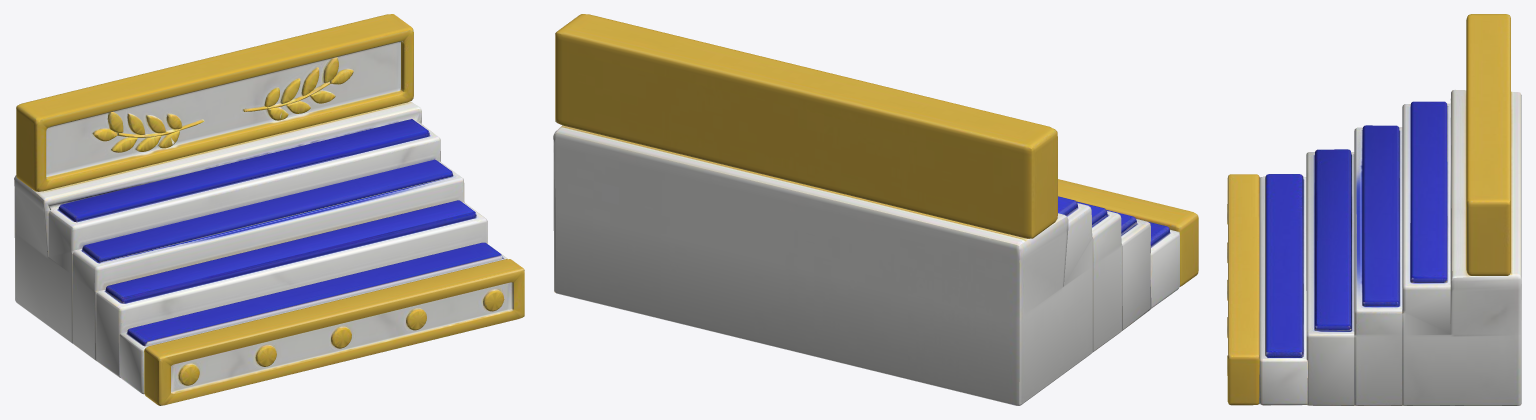
Rendered from leyendas_grada.glb.
3 views of the same model, side by side, from view 1: azimuth 30°, elevation 25°; view 2: azimuth 150°, elevation 25°; view 3: azimuth 270°, elevation 25° (orthographic). The views are drawn at different scales.
Visible parts, largest first — view 1: tripo_node_bac34119-f831-4da6-acd9-fc1073cba813; view 2: tripo_node_bac34119-f831-4da6-acd9-fc1073cba813; view 3: tripo_node_bac34119-f831-4da6-acd9-fc1073cba813.
Boxes of the visible parts, box(x1,y1,x2,y2) form: tripo_node_bac34119-f831-4da6-acd9-fc1073cba813: box(14, 14, 524, 405); tripo_node_bac34119-f831-4da6-acd9-fc1073cba813: box(553, 14, 1198, 405); tripo_node_bac34119-f831-4da6-acd9-fc1073cba813: box(1227, 14, 1521, 405).
Size of the model in its own units: 0.9995 by 0.5132 by 0.6587.
Materials: 1 (1 with a texture image).
